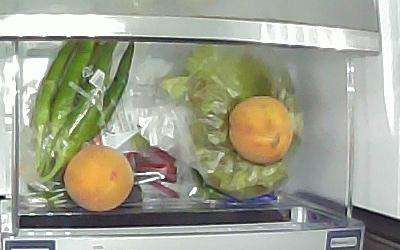peach: (62, 144, 134, 212), (229, 96, 293, 165)
